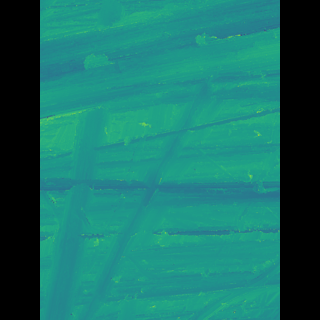Loch: (71, 75, 215, 320), (69, 0, 250, 120)
